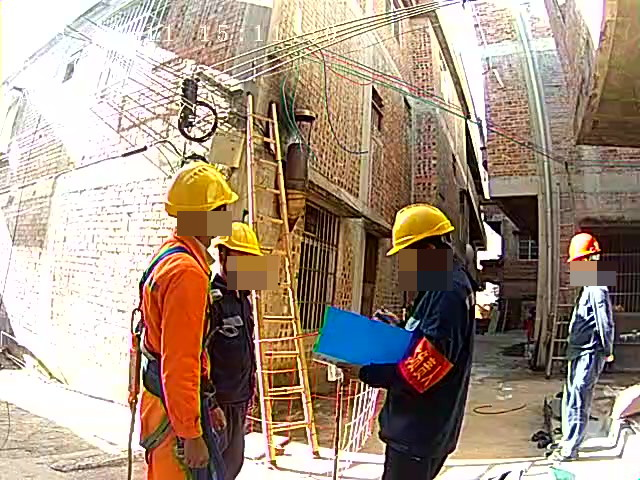badge: (401, 335, 452, 396)
downsuit: (201, 401, 248, 480), (565, 356, 602, 449)
halt: (165, 165, 240, 242), (384, 204, 458, 276), (212, 222, 263, 280), (567, 233, 603, 273)
hand: (181, 437, 207, 468), (371, 306, 398, 325), (206, 408, 227, 432), (336, 361, 361, 377)
inear: (407, 241, 439, 275), (215, 244, 237, 278), (208, 206, 223, 238)
person: (125, 160, 267, 480), (322, 202, 480, 480), (562, 231, 618, 455)
safebelt: (117, 238, 222, 480)
upsuit: (358, 260, 477, 446), (206, 272, 260, 394), (570, 272, 614, 348)
ydownsuit: (137, 400, 203, 480)
yupsuit: (128, 225, 218, 398)
